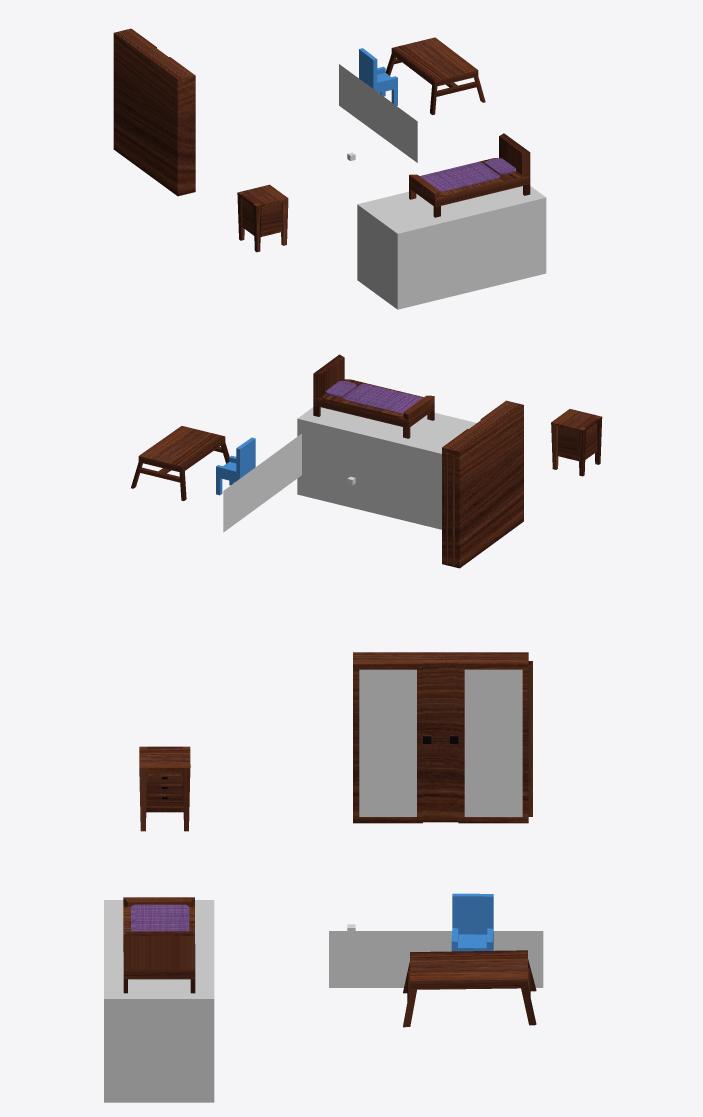
Rendered from duy23.glb.
3 views of the same model, one above another, from view 1: azimuth 30°, elevation 25°; view 2: azimuth 150°, elevation 25°; view 3: azimuth 270°, elevation 25° (orthographic). The views are drawn at different scales.
Visible parts, largest first — view 1: cv_bed, closet, bed, kinhcuaso, Cube.001, small chest, chair; view 2: cv_bed, closet, bed, kinhcuaso, Cube.001, small chest, chair, basic_door; view 3: cv_bed, closet, kinh tu, kinh tu 1, kinhcuaso, bed, Cube.001, small chest, chair, basic_door.
Boxes of the visible parts, x1,y1,x2,y2 form: cv_bed: (357,186,546,309); closet: (113,28,195,196); bed: (409,133,530,217); kinhcuaso: (339,64,417,162); Cube.001: (385,37,485,114); small chest: (237,184,288,252); chair: (359,48,397,105); cv_bed: (297,407,476,529); closet: (442,400,523,568); bed: (313,354,434,438); kinhcuaso: (223,433,301,532); Cube.001: (131,426,229,500); small chest: (551,409,602,476); chair: (216,437,255,495); basic_door: (446,453,454,566); cv_bed: (104,900,214,1102); closet: (353,652,528,823); kinh tu: (464,669,522,816); kinh tu 1: (359,669,416,816); kinhcuaso: (329,931,543,987); bed: (123,897,195,993); Cube.001: (403,950,536,1027); small chest: (139,746,190,831); chair: (451,893,493,951); basic_door: (528,661,532,816).
Bounding box in the file's own units: 167 × 72.37 × 167.
11 materials, 5 textured.
